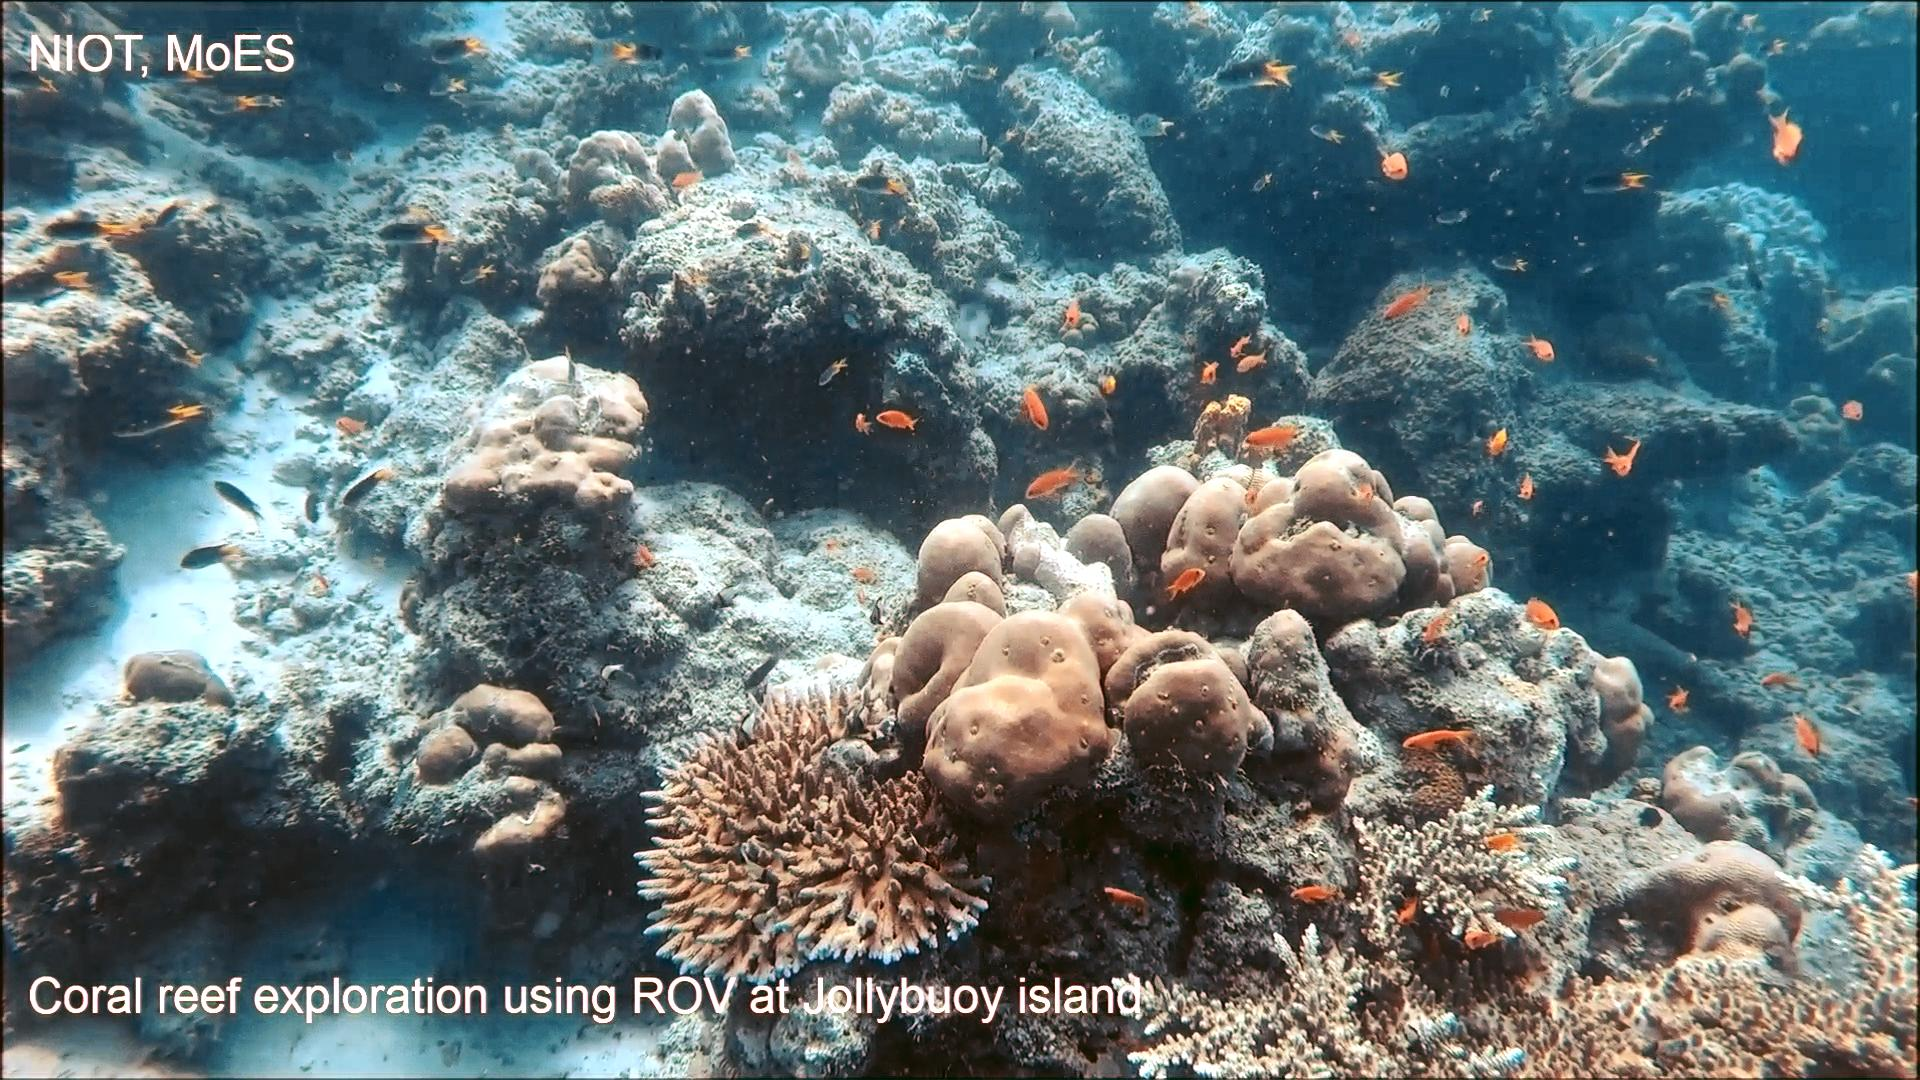Porites-Porites pukoensis: (856, 495, 1259, 837), (1104, 444, 1495, 634)
